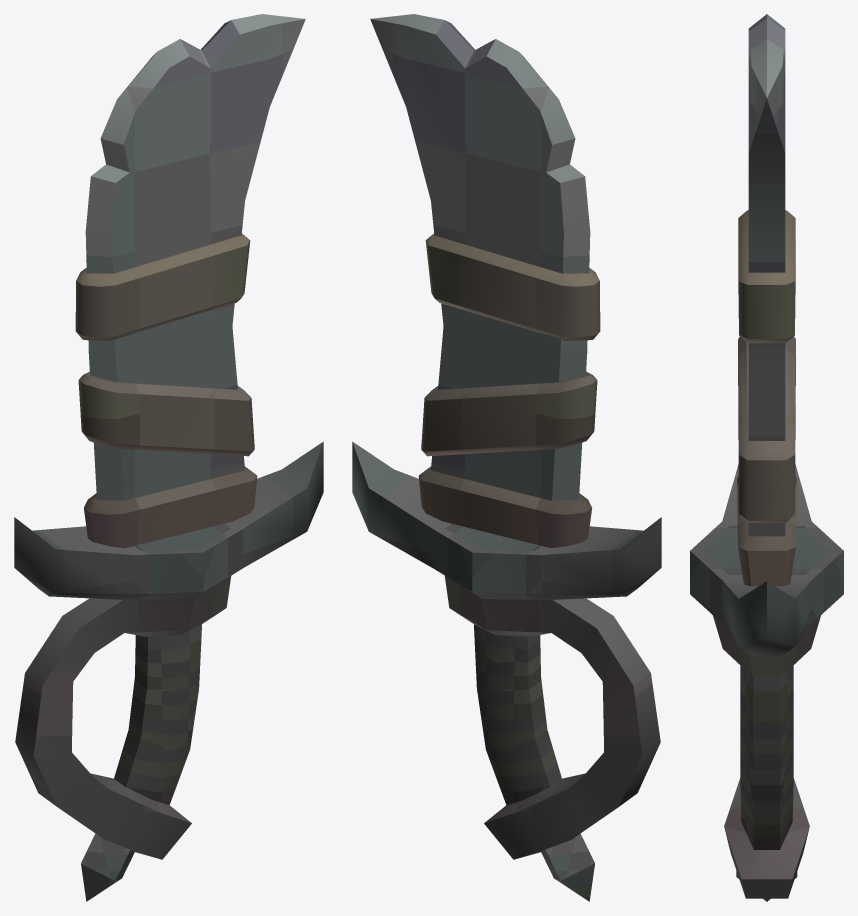
The model's file is hoja.glb.
3 renders of one model, left to right at view 1: azimuth 30°, elevation 25°; view 2: azimuth 150°, elevation 25°; view 3: azimuth 270°, elevation 25°, orthographic. The views are drawn at different scales.
Visible parts, largest first — view 1: Skeleton_Blade; view 2: Skeleton_Blade; view 3: Skeleton_Blade.
Part boxes in pixels (x1,y1,x2,y2): Skeleton_Blade: (14, 14, 323, 901); Skeleton_Blade: (352, 14, 661, 901); Skeleton_Blade: (690, 14, 843, 901).
Bounding box in the file's own units: 0.5727 × 1.5 × 0.2223.
Materials: 1 (1 with a texture image).
